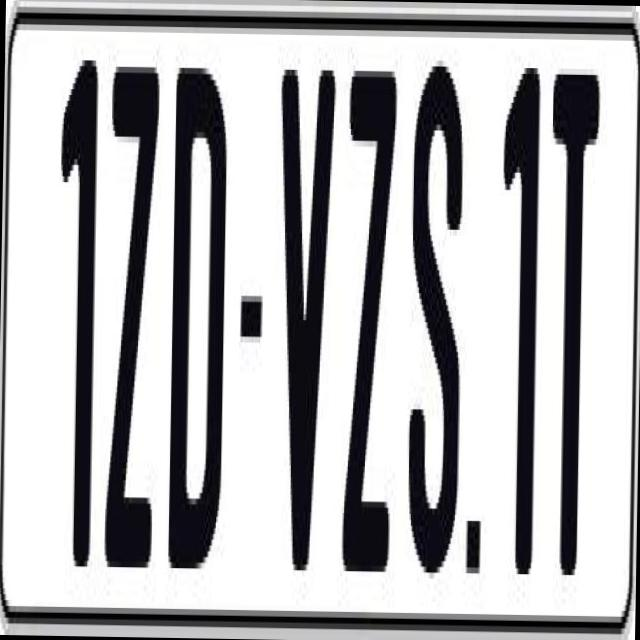1: (49, 48, 92, 590), (496, 61, 539, 603)
D: (168, 67, 232, 569)
S: (404, 59, 468, 602)
T: (540, 62, 595, 564)
V: (270, 63, 333, 576)
Z: (102, 60, 166, 597), (340, 58, 402, 560)
